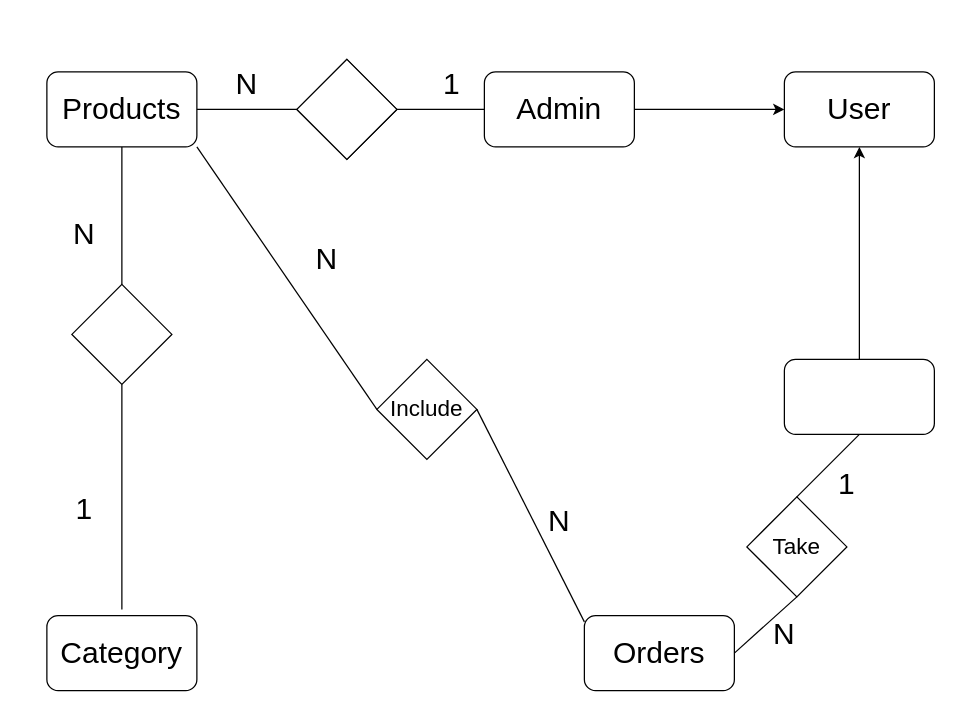
Some shapes in this 956 by 718 pixel diagram are drawn without their labels. Here are the shapes that lost their labels. From the top down, the centre of each, then its label:
the point at 346,108: Creat
the point at 121,333: Has
the point at 858,396: Normal User
